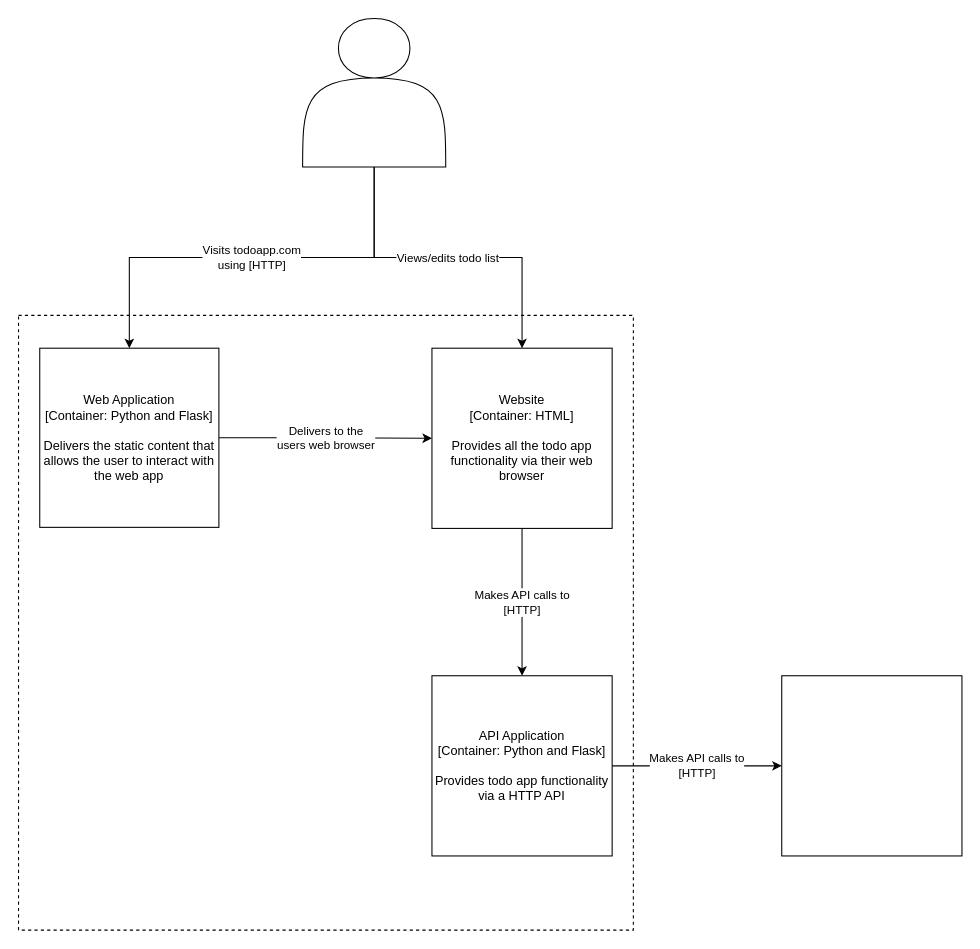
The diagram is 980 pixels wide and 949 high, and some of its shapes have lost their labels. The centre of each missing label's shape, as x and y in pixels:
Todo App User [Person]: [374,92]
Todo Storage System [Software System] Stores all the information about the todos: [871,765]
